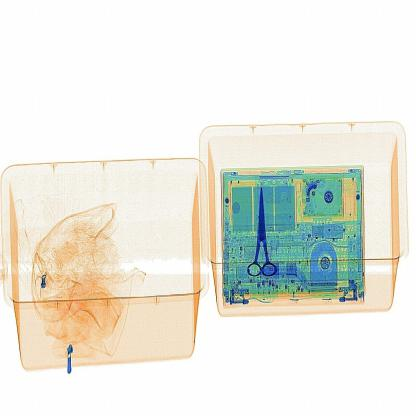gun: (241, 175, 283, 290)
